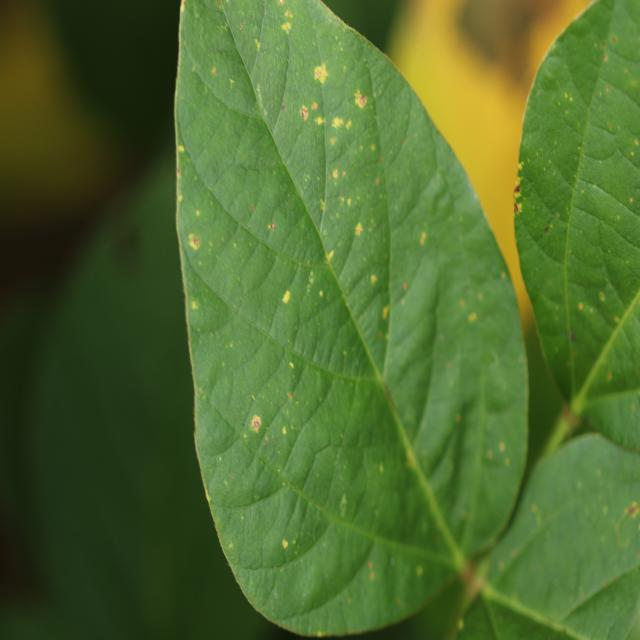Soybean: (173, 0, 640, 640)
downey_mildew: (194, 30, 391, 528), (216, 276, 332, 477), (545, 55, 638, 256), (275, 36, 371, 218), (425, 281, 513, 478), (523, 467, 638, 610), (276, 27, 390, 163), (321, 123, 385, 255), (253, 362, 325, 459), (295, 59, 349, 135), (226, 189, 285, 242), (482, 423, 514, 468), (512, 175, 525, 218), (314, 63, 328, 82), (188, 233, 200, 251), (300, 104, 312, 121), (250, 415, 261, 433), (339, 493, 348, 513), (281, 20, 292, 35), (626, 503, 638, 516), (354, 222, 364, 236), (282, 290, 291, 304), (325, 249, 334, 262), (419, 231, 427, 245), (382, 305, 389, 319), (514, 202, 522, 214), (516, 178, 522, 194), (468, 312, 477, 322), (315, 116, 323, 126), (416, 565, 423, 576), (371, 274, 378, 284), (530, 503, 537, 513), (406, 458, 413, 468), (282, 539, 288, 550), (205, 491, 211, 502), (181, 0, 187, 11), (267, 222, 275, 230), (178, 144, 185, 153), (255, 38, 260, 50), (499, 442, 505, 452), (191, 300, 197, 310), (285, 10, 292, 18), (311, 102, 318, 110), (599, 292, 605, 301), (487, 450, 493, 459), (369, 571, 375, 580), (569, 332, 575, 341), (390, 557, 396, 566), (282, 425, 287, 435), (320, 199, 325, 209), (316, 70, 321, 80), (229, 78, 235, 86), (402, 282, 408, 290), (455, 414, 461, 422), (607, 371, 612, 380), (379, 464, 384, 473), (544, 226, 550, 233), (578, 303, 583, 311), (518, 161, 523, 169), (178, 194, 183, 202), (211, 67, 216, 75), (368, 561, 373, 569), (612, 35, 617, 43), (195, 209, 200, 216), (289, 362, 294, 369), (330, 138, 335, 145), (228, 542, 233, 549), (604, 55, 609, 62), (378, 332, 383, 339), (281, 104, 286, 111), (177, 168, 181, 176), (629, 198, 634, 204), (264, 436, 269, 442), (319, 290, 323, 297), (251, 205, 255, 212), (602, 40, 606, 47), (288, 392, 292, 399), (564, 92, 568, 98), (569, 97, 573, 103), (526, 157, 530, 163), (606, 87, 610, 93), (617, 215, 621, 221), (243, 433, 247, 439), (230, 473, 234, 479), (218, 456, 222, 462), (224, 480, 228, 486), (251, 394, 255, 400), (239, 23, 243, 29), (555, 212, 559, 218), (637, 139, 640, 146), (608, 123, 612, 128), (637, 151, 640, 157), (581, 189, 584, 194), (241, 516, 244, 521), (227, 123, 230, 128), (638, 366, 640, 372)
